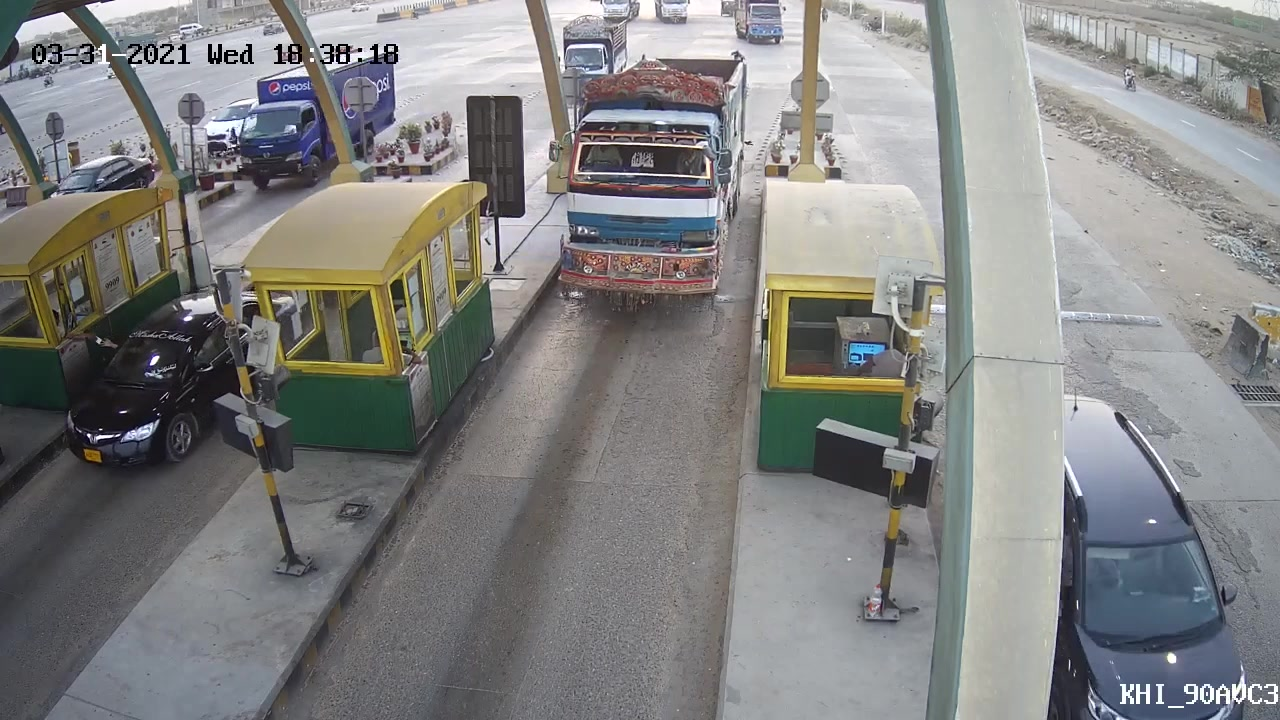F5: (550, 48, 755, 309)
